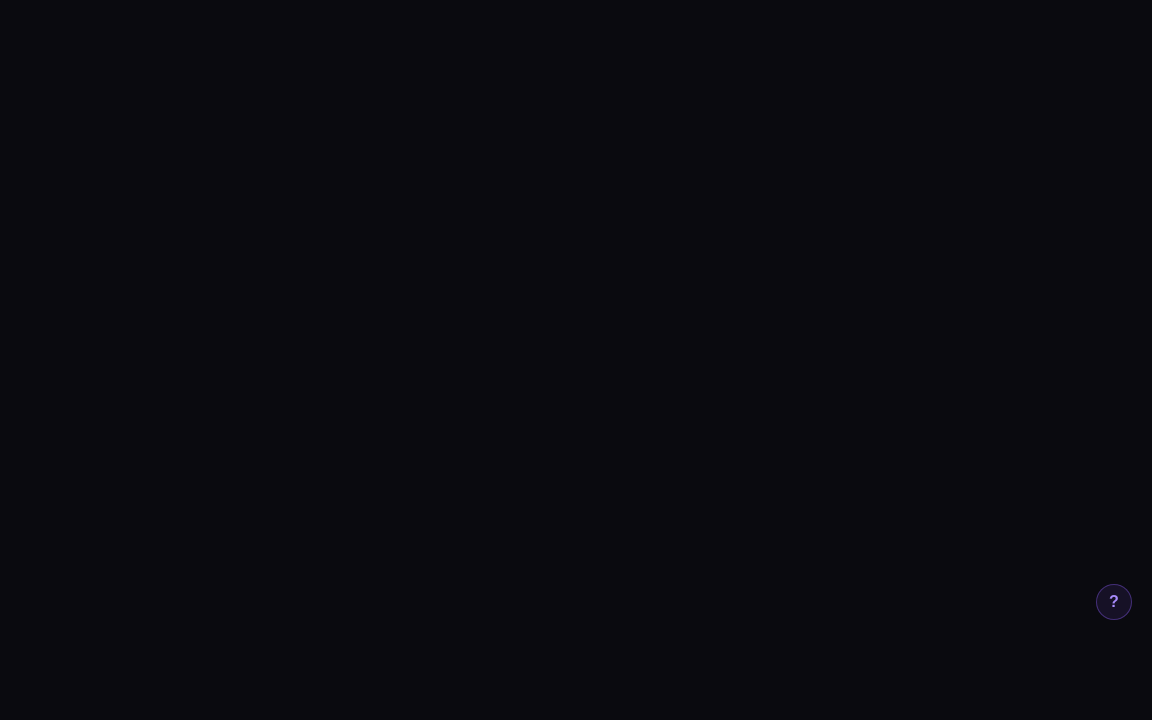
Scenario: HelpPanel › opens help panel on click
Click the button named "Help": (1114, 602) [1096,584,1132,620]
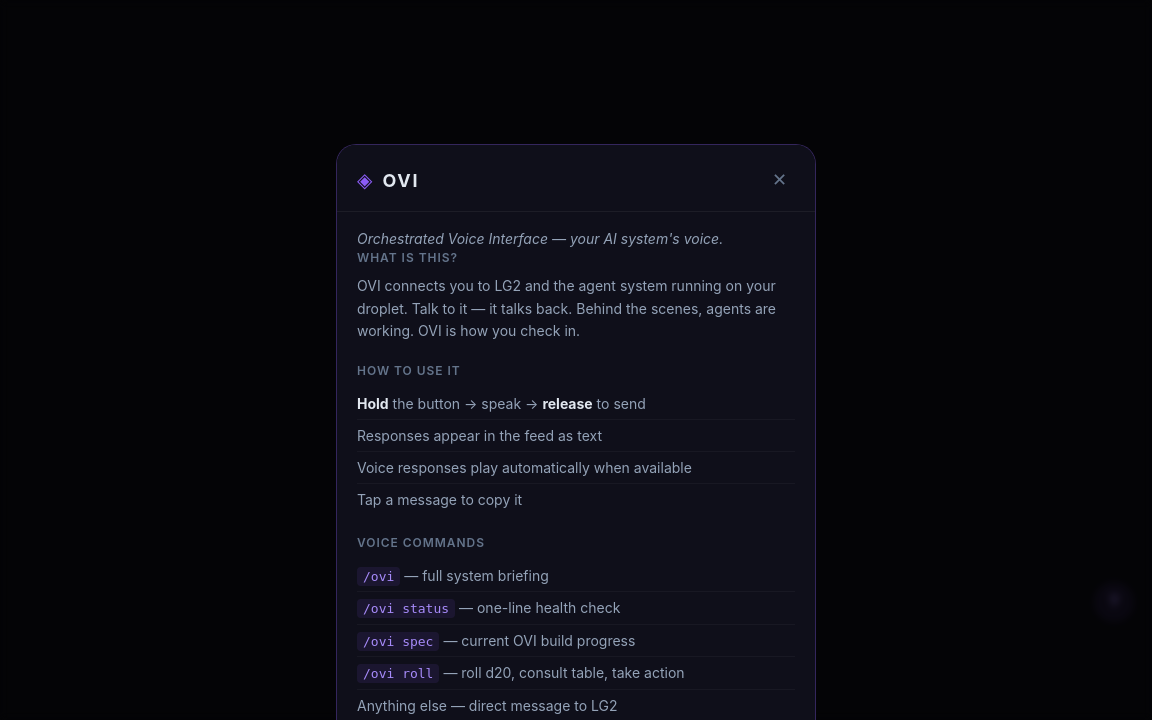
Result: the heading "What is this?" is shown at [357,250,458,265]
Result: the text "Orchestrated Voice Interface — your AI system's voice." is shown at [357,230,723,247]
